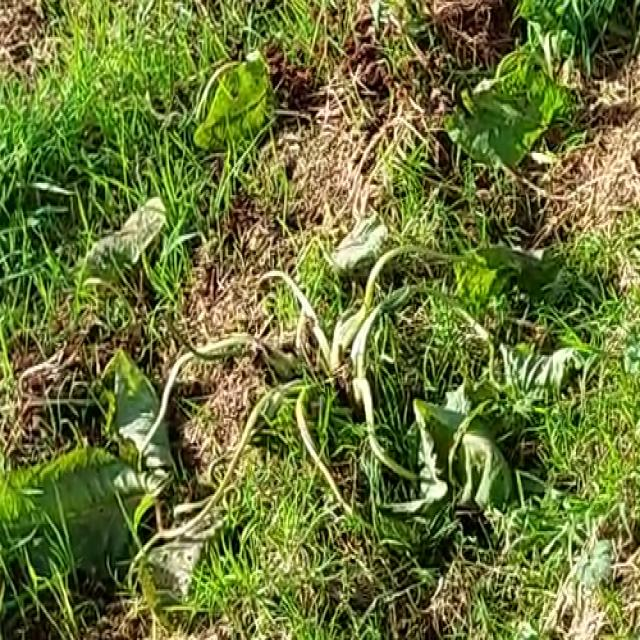organic waste: (0, 49, 582, 587)
